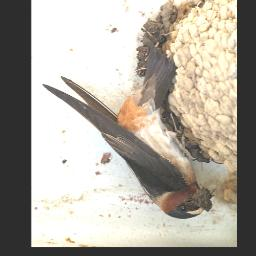Swallow: (41, 74, 213, 219)
